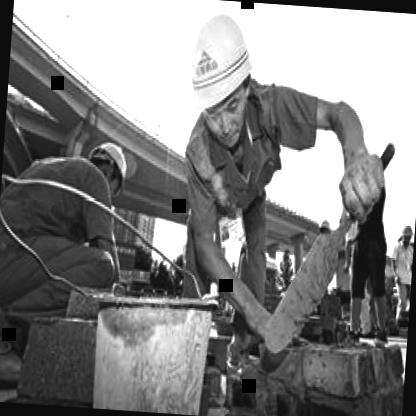helmet: (176, 0, 266, 153), (88, 134, 132, 196), (316, 213, 334, 238), (398, 222, 413, 248)
